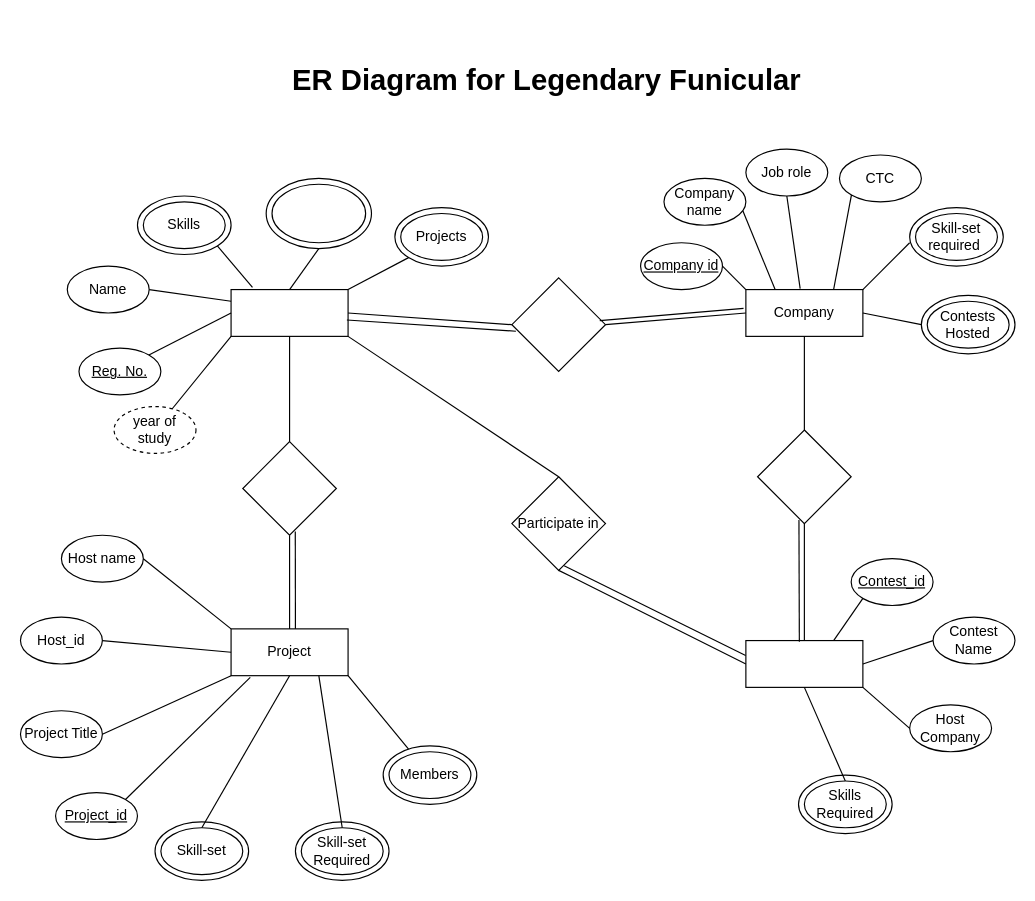
Image size: 1035x901. Some labels were removed from this diagram. Each missing label, with the centre of its shape:
Achievements: point (318, 213)
Applies For: point (558, 324)
Create/Join: point (289, 488)
Hosts: point (803, 476)
Student: point (289, 312)
Weekly Contest: point (804, 663)
